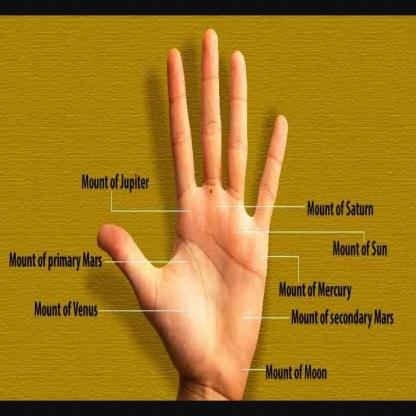palm: (103, 26, 292, 399)
